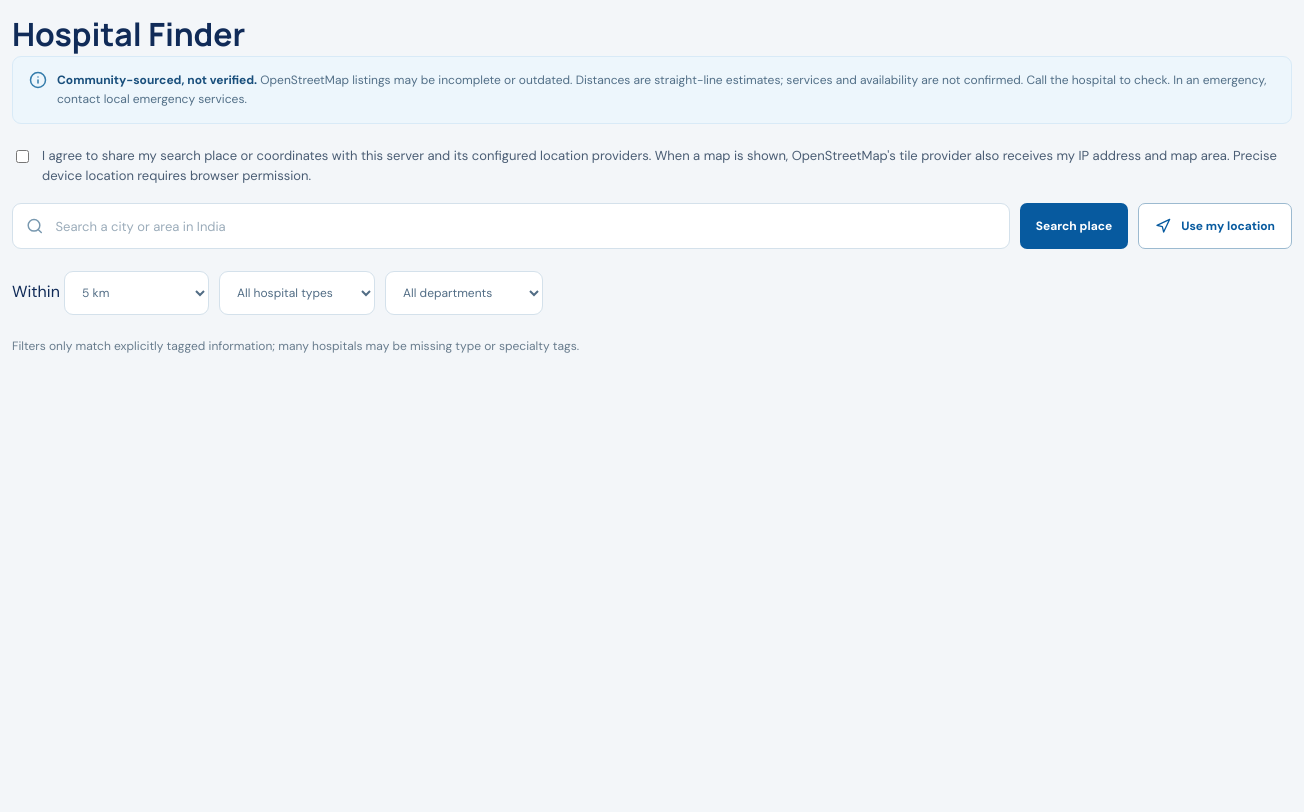
Test: real search requires consent, locates and filters mapped hospitals, selects a mapped result
The width and height of the screenshot is (1304, 812).
Later steps or results of the test are not shown.
Expected: the text "Community-sourced, not verified." is shown, [57,72,257,88]
Type "Delhi" into the field named "Search city or area" at (525, 226), box [54,204,996,248]
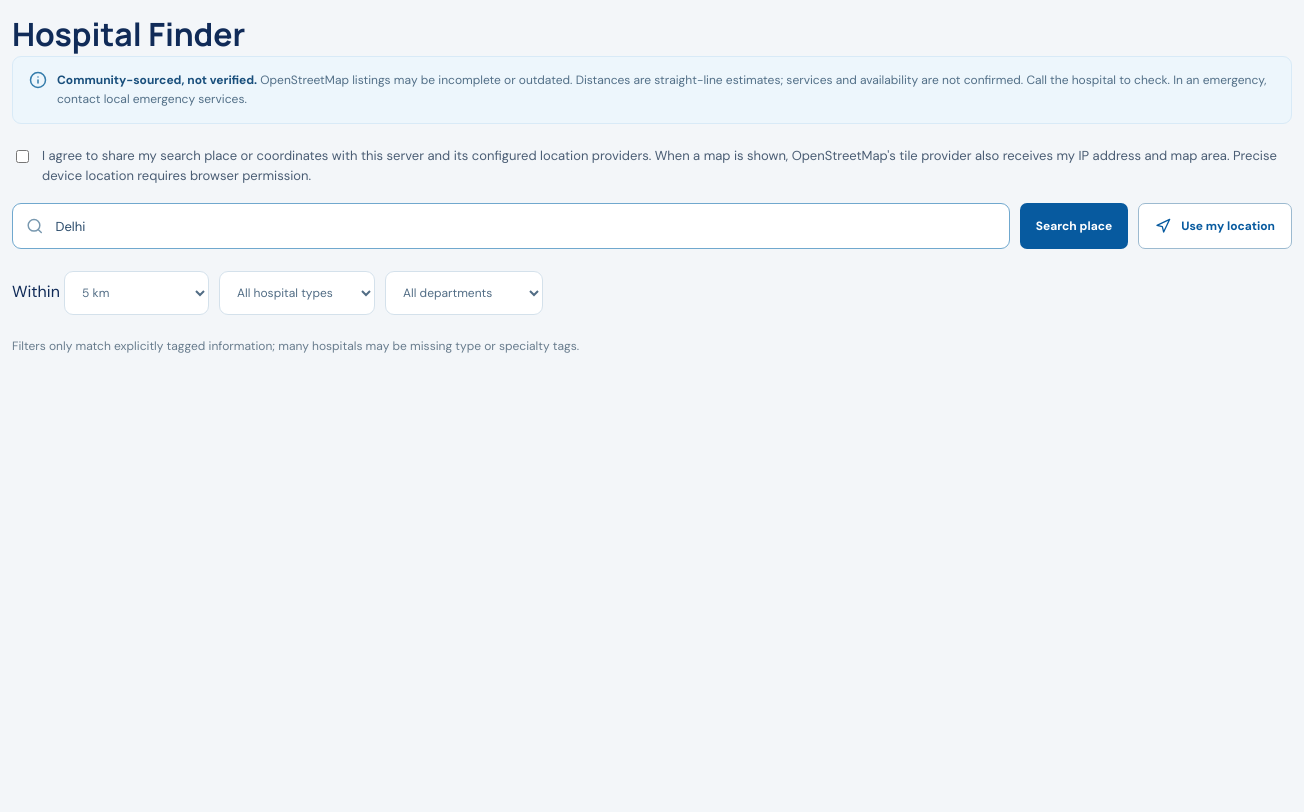
Click the button "Search place" at (1074, 226), box [1020,203,1128,249]
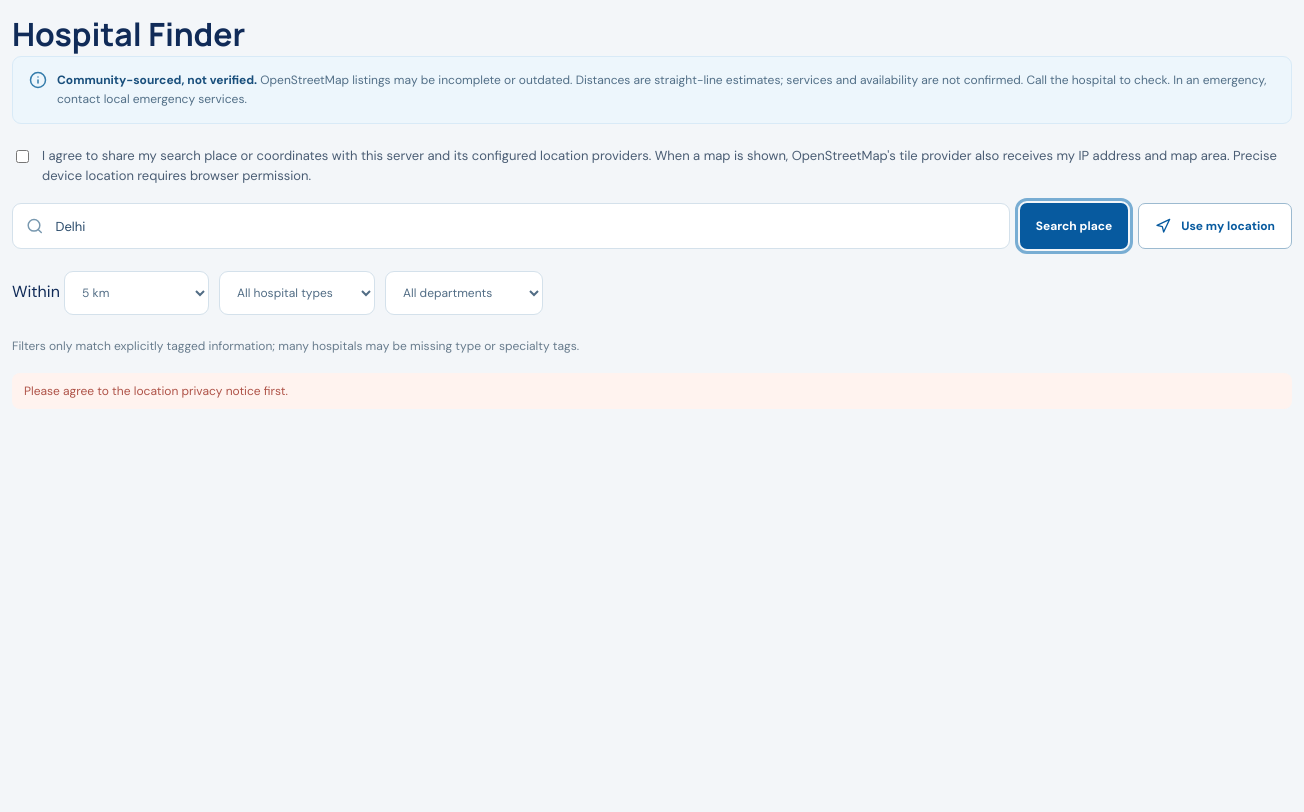
Result: the message shows "privacy notice" at [24,383,288,399]
Click the checkbox at (22, 157), box [16,150,29,163]
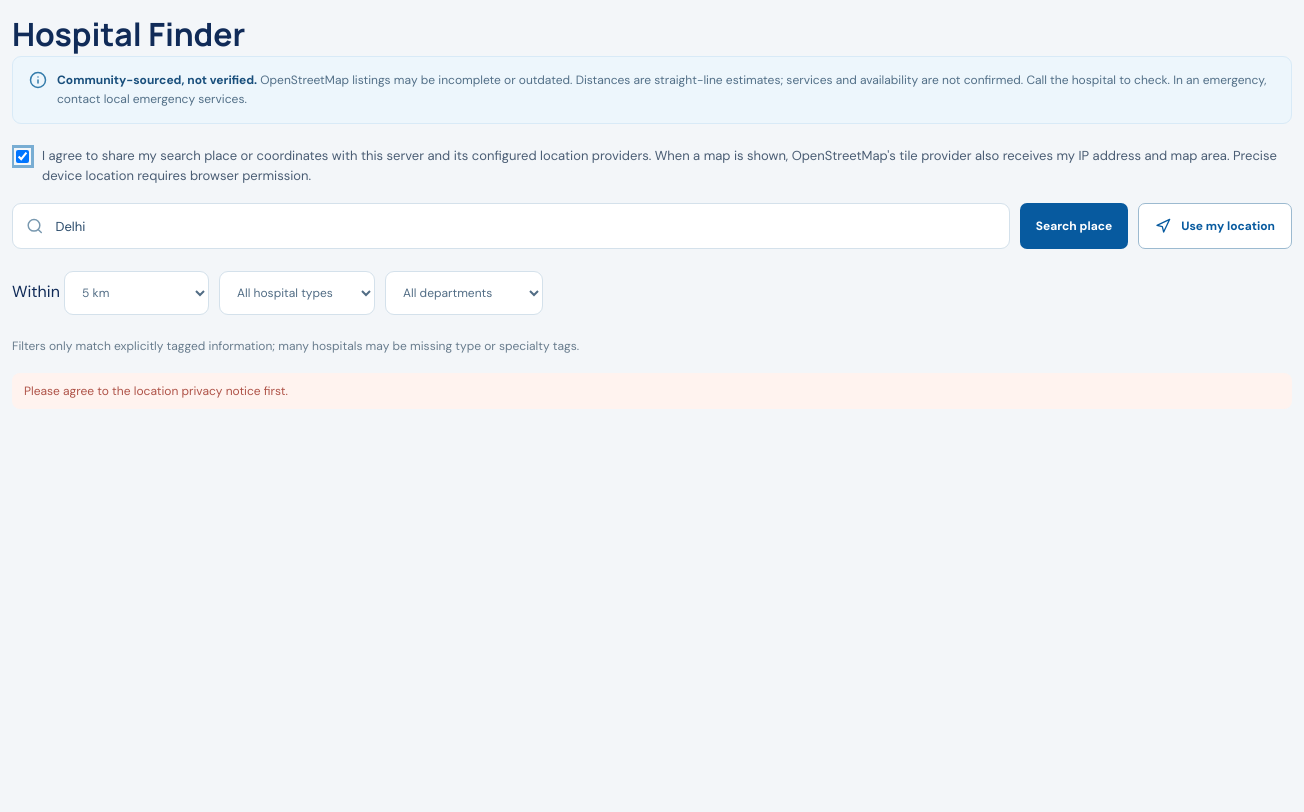
Click the button "Search place" at (1074, 226), box [1020,203,1128,249]
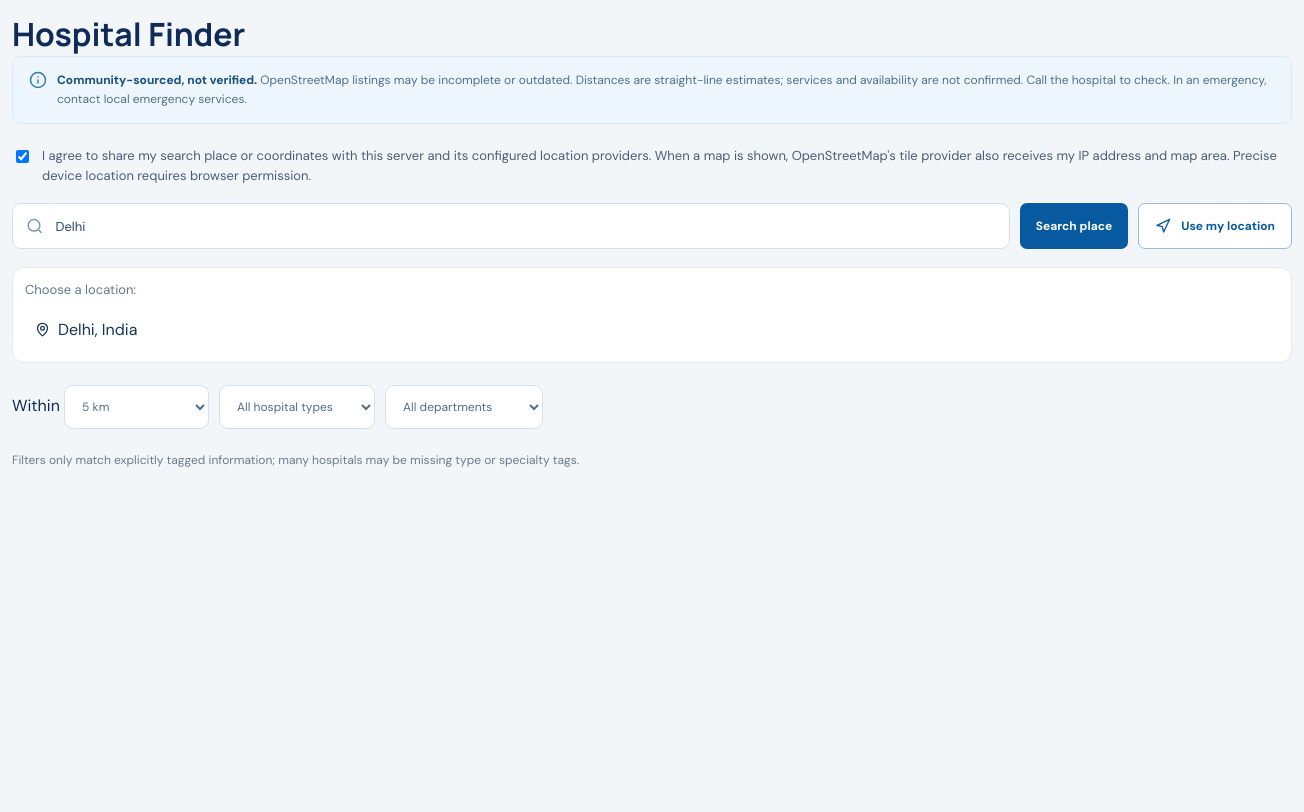
Click the button "Delhi, India" at (98, 330), box [25,309,1279,350]
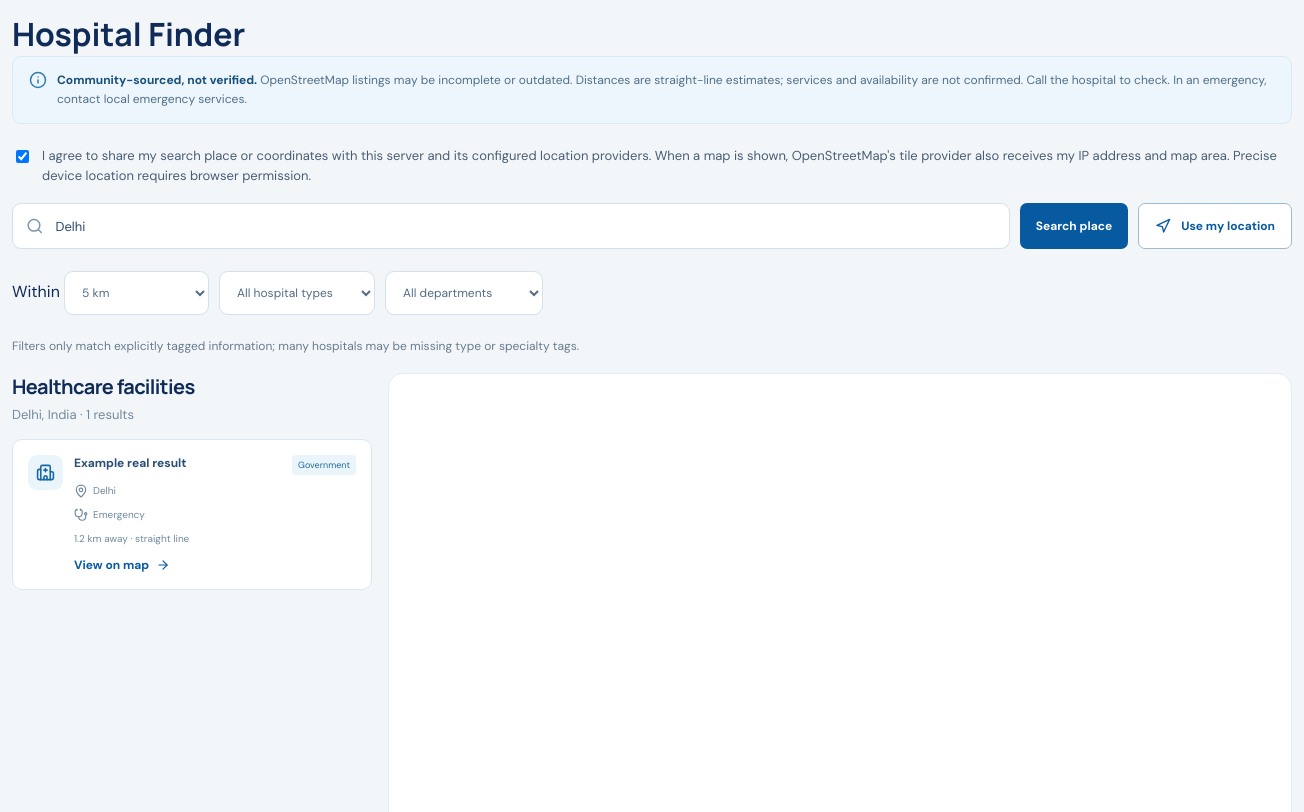
Result: the text "Example real result" is shown at [74,455,186,471]
